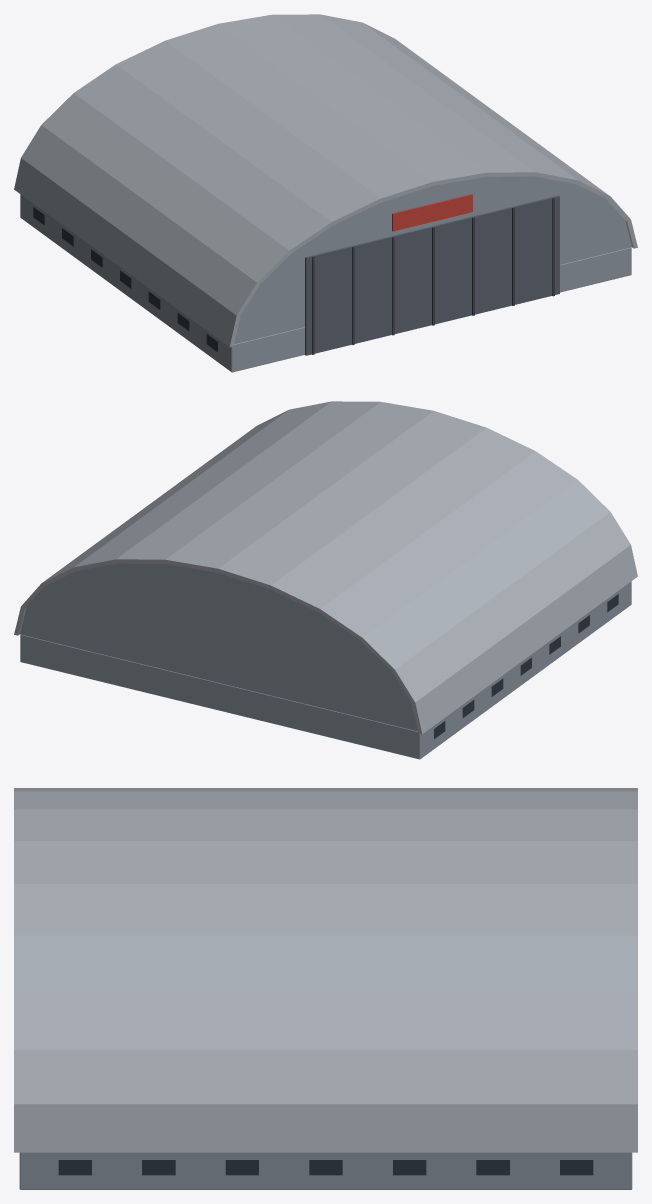
Rendered from Hangar.fbx.
3 views of the same model, one above another, from view 1: azimuth 30°, elevation 25°; view 2: azimuth 150°, elevation 25°; view 3: azimuth 270°, elevation 25° (orthographic). The views are drawn at different scales.
Visible parts, largest first — view 1: Hangar_Roof, Hangar_Door, Hangar_Body, Hangar_Frame, Hangar_Accent, Hangar_Windows; view 2: Hangar_Roof, Hangar_Body, Hangar_Windows; view 3: Hangar_Roof, Hangar_Body, Hangar_Windows.
Part boxes in pixels (bbox=[...]): Hangar_Roof: bbox=[14, 14, 637, 347]; Hangar_Door: bbox=[305, 195, 559, 355]; Hangar_Body: bbox=[20, 176, 631, 372]; Hangar_Frame: bbox=[312, 197, 554, 354]; Hangar_Accent: bbox=[392, 194, 472, 231]; Hangar_Windows: bbox=[33, 207, 217, 351]; Hangar_Roof: bbox=[14, 401, 637, 734]; Hangar_Body: bbox=[20, 563, 631, 759]; Hangar_Windows: bbox=[434, 594, 618, 738]; Hangar_Roof: bbox=[14, 788, 637, 1152]; Hangar_Body: bbox=[19, 1152, 632, 1189]; Hangar_Windows: bbox=[58, 1160, 593, 1175].
Size of the model in its own units: 122 by 41.2 by 112.
